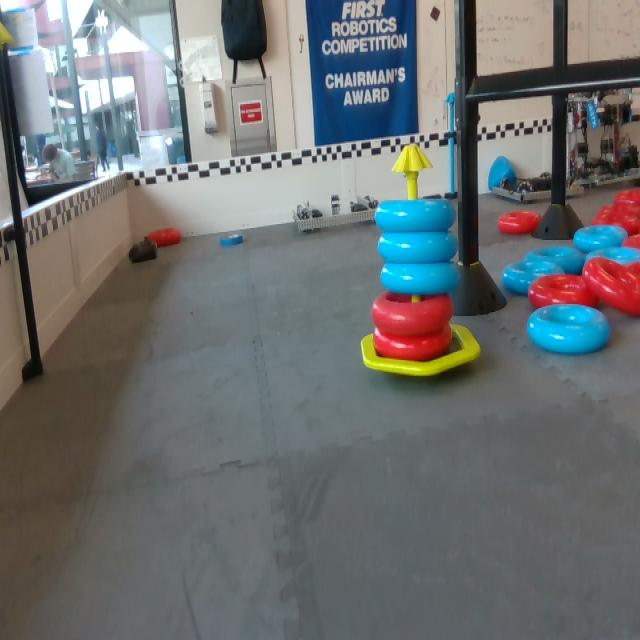Blue-Ring: (525, 305, 611, 355), (373, 199, 458, 234), (380, 261, 461, 296), (378, 230, 459, 263), (502, 259, 566, 297), (527, 245, 585, 274), (573, 224, 628, 252), (586, 245, 639, 265), (220, 232, 247, 246)
Mobile-Goal: (361, 144, 483, 378)
Red-Ring: (372, 291, 455, 334), (584, 260, 639, 314), (373, 327, 455, 359), (528, 274, 603, 308), (592, 208, 639, 236), (496, 212, 542, 234), (146, 227, 181, 245), (614, 188, 639, 207), (625, 233, 639, 251)
Yellow-Stake-Head: (392, 144, 434, 172), (0, 22, 15, 44)
zblue-Stake-Head: (446, 93, 455, 103)
